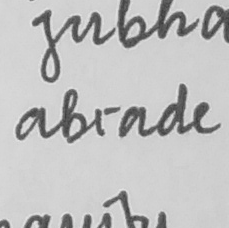a: (13, 103, 49, 145), (116, 104, 150, 141)
b: (58, 86, 89, 145)
d: (154, 79, 189, 138)
e: (191, 100, 222, 136)
r: (92, 103, 122, 137)
